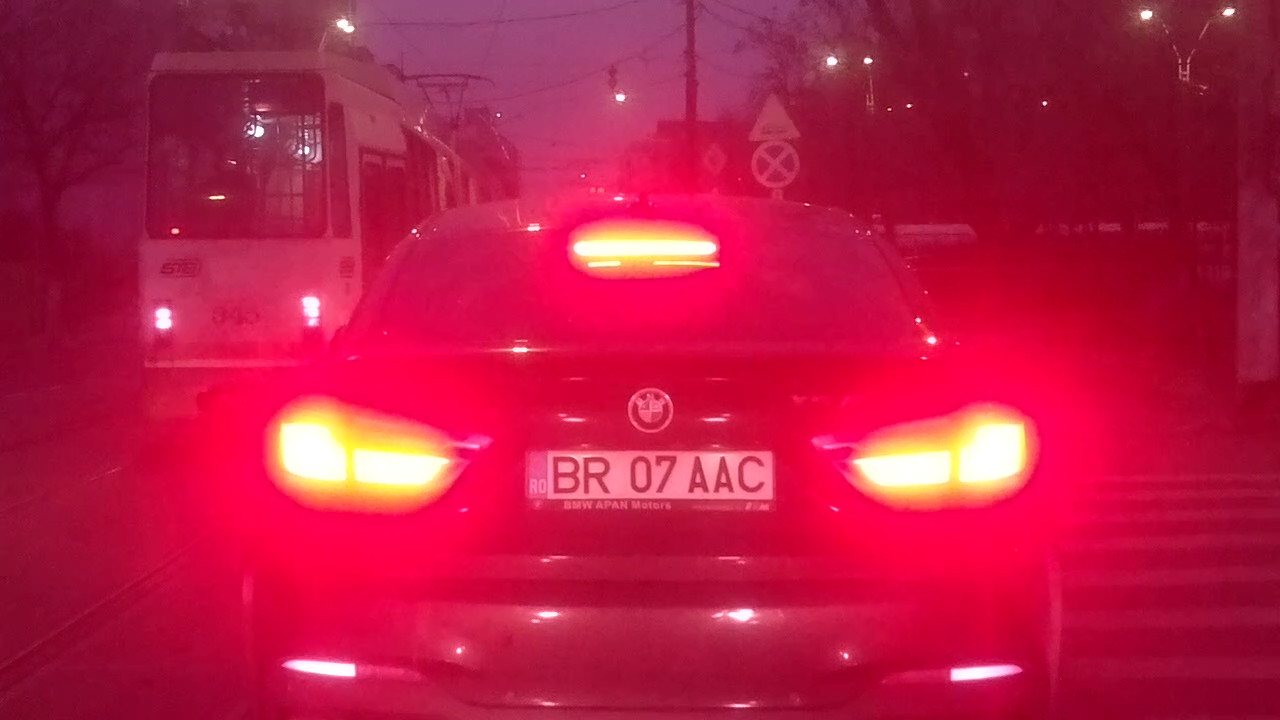license-plate: (518, 444, 780, 506)
